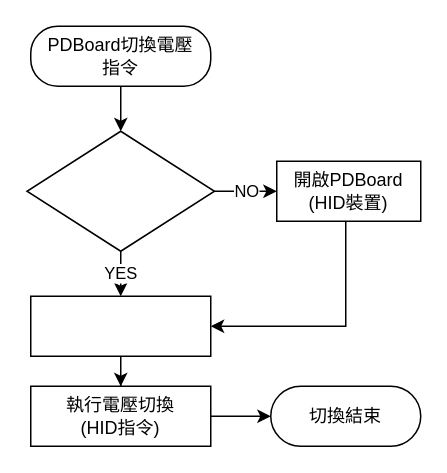
This 447x473 diagram has some shape labels left out. Each missing label, with the centre of its shape:
確認PDBoard 是否連線中: the point at 120,190
確認指定電壓 (HID指令): the point at 120,325
